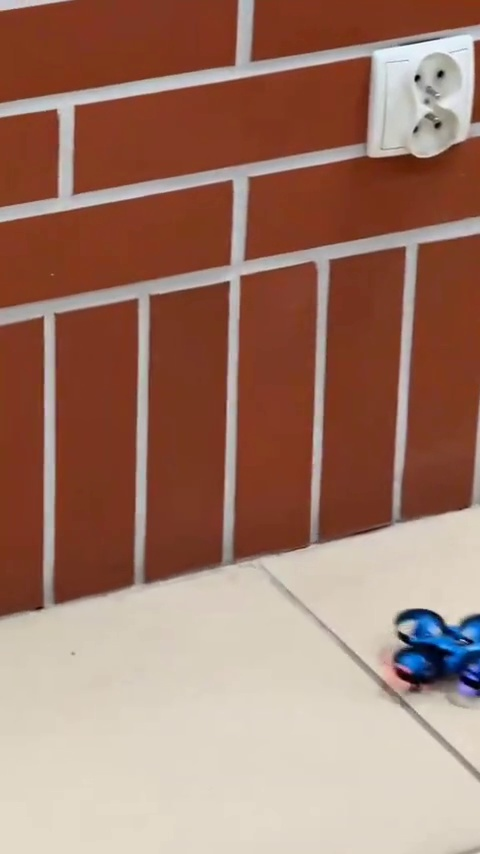drone: (393, 613, 480, 691)
